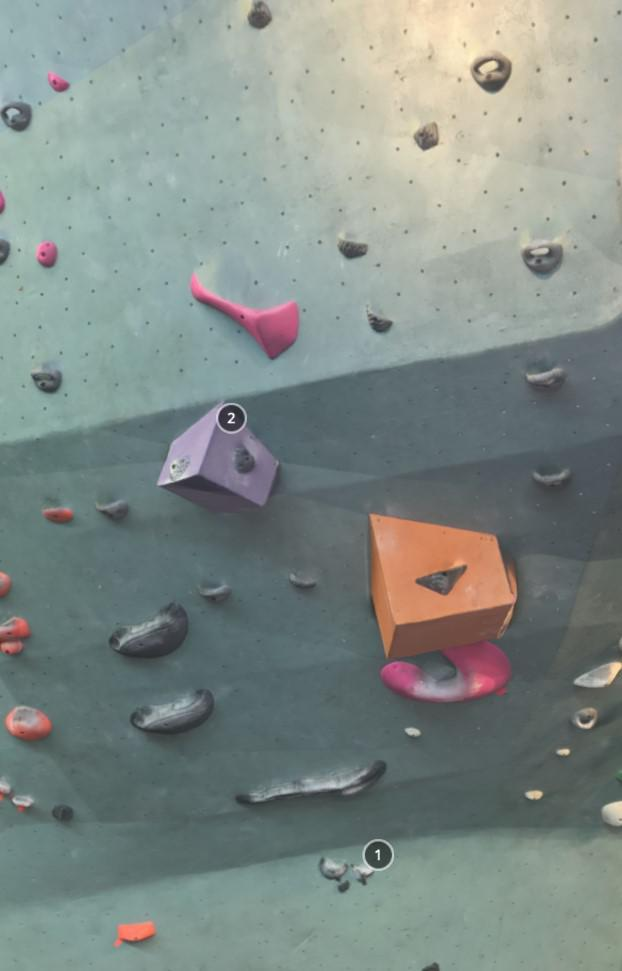hold: (368, 512, 517, 661), (156, 400, 280, 514), (190, 272, 299, 358), (380, 639, 512, 702), (234, 760, 387, 805), (107, 602, 189, 658), (130, 689, 214, 733), (5, 705, 53, 741), (415, 563, 469, 595), (468, 50, 512, 88), (520, 239, 563, 272), (572, 660, 622, 688), (525, 366, 568, 392), (0, 100, 32, 131), (365, 300, 394, 333), (532, 467, 572, 490), (0, 615, 32, 643), (318, 855, 349, 882), (30, 367, 62, 393), (118, 921, 157, 942), (414, 121, 440, 151), (570, 706, 599, 731), (247, 0, 272, 29), (95, 499, 129, 520), (232, 446, 256, 474), (336, 237, 369, 257), (197, 584, 231, 603), (41, 506, 74, 524), (36, 240, 58, 267), (601, 800, 622, 828), (351, 864, 377, 886), (169, 455, 191, 481), (286, 572, 318, 589), (47, 71, 70, 91), (51, 804, 74, 822), (0, 639, 24, 654), (0, 570, 12, 599), (11, 794, 34, 807), (0, 238, 10, 266), (524, 789, 544, 800), (404, 727, 423, 737), (337, 880, 351, 893), (421, 962, 440, 971), (0, 781, 12, 795), (556, 747, 572, 756), (0, 191, 6, 214)
